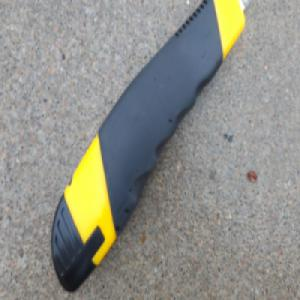Cutter: (51, 0, 252, 291)
